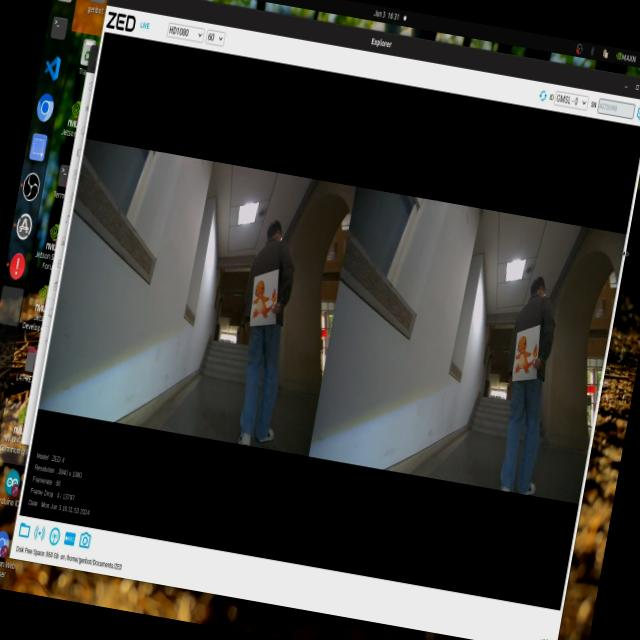red: (500, 326, 552, 380), (245, 270, 282, 322)
